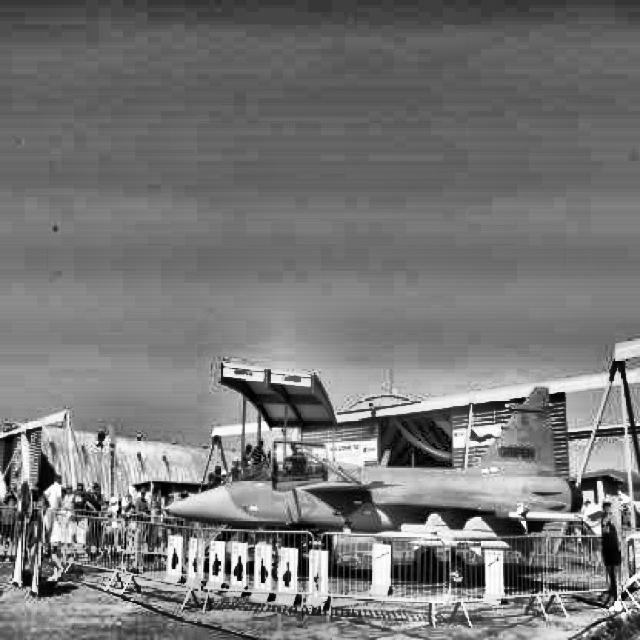JAS39: (137, 385, 612, 586)
